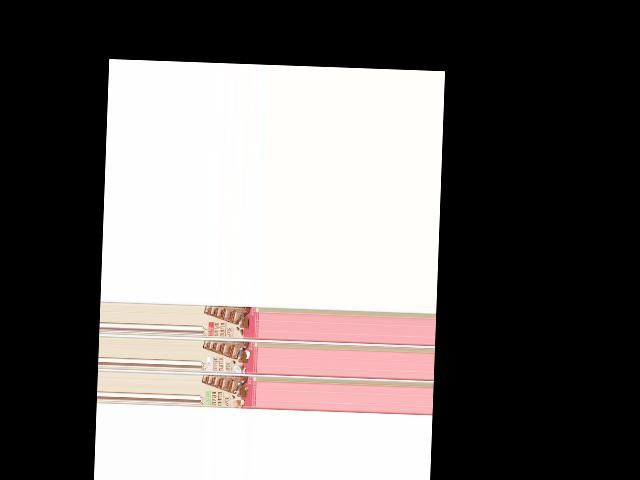chocolate: (200, 375, 257, 410)
